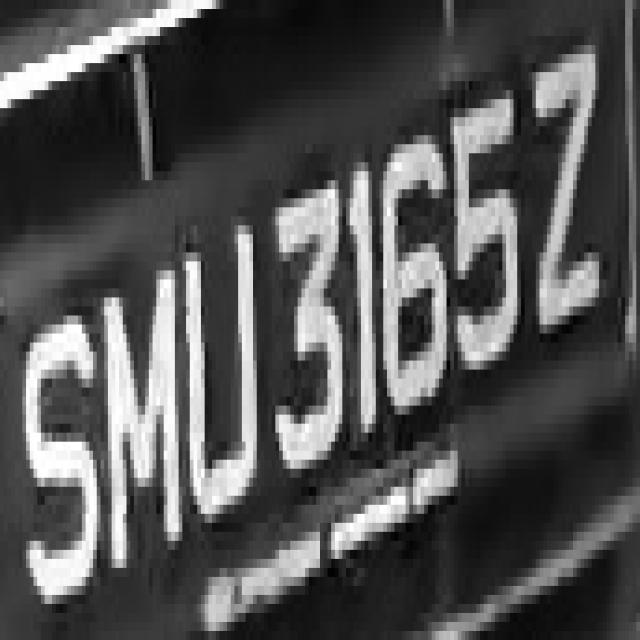1: (339, 108, 383, 487)
3: (264, 153, 346, 505)
5: (443, 99, 528, 406)
6: (372, 126, 450, 460)
M: (97, 243, 182, 577)
S: (22, 270, 116, 622)
U: (178, 180, 260, 532)
Z: (528, 27, 606, 361)
